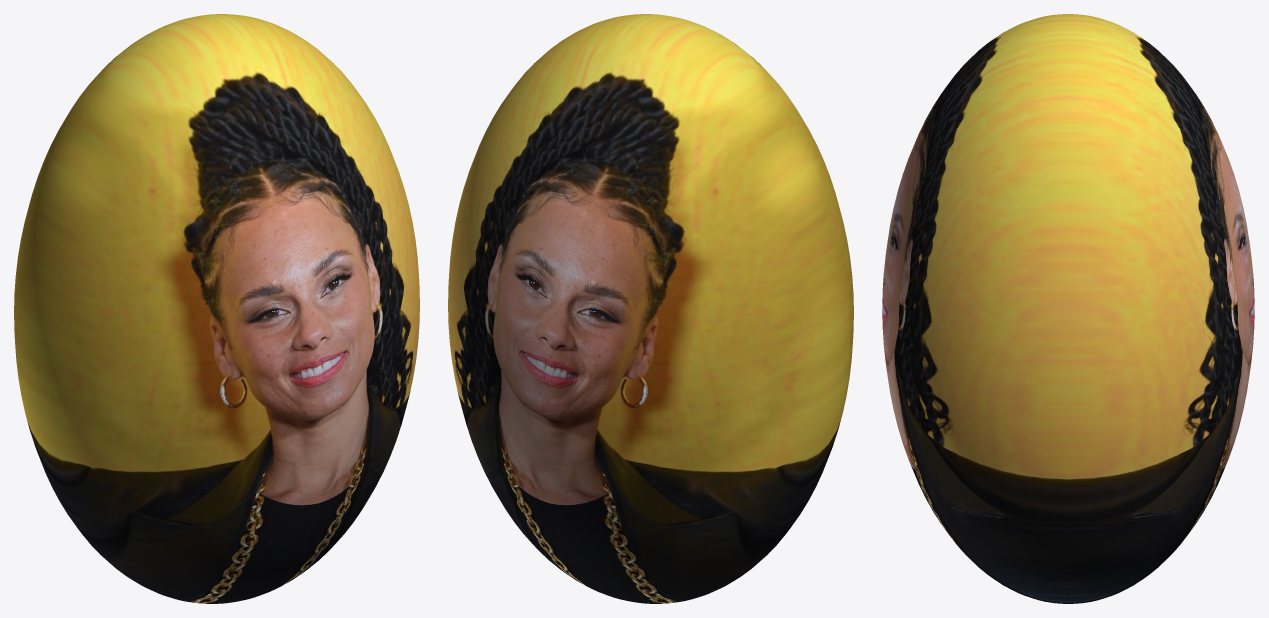
Rendered from alicia-keys.glb.
The picture shows the model from 3 angles, left to right: view 1: azimuth 30°, elevation 25°; view 2: azimuth 150°, elevation 25°; view 3: azimuth 270°, elevation 25°; orthographic projection.
Visible parts, largest first — view 1: head; view 2: head; view 3: head.
Part boxes in pixels (x1,y1,x2,y2): head: (14,14,419,603); head: (448,14,853,603); head: (882,14,1254,603).
Bounding box in the file's own units: 1.33 × 2 × 1.2.
Materials: 1 (1 with a texture image).
